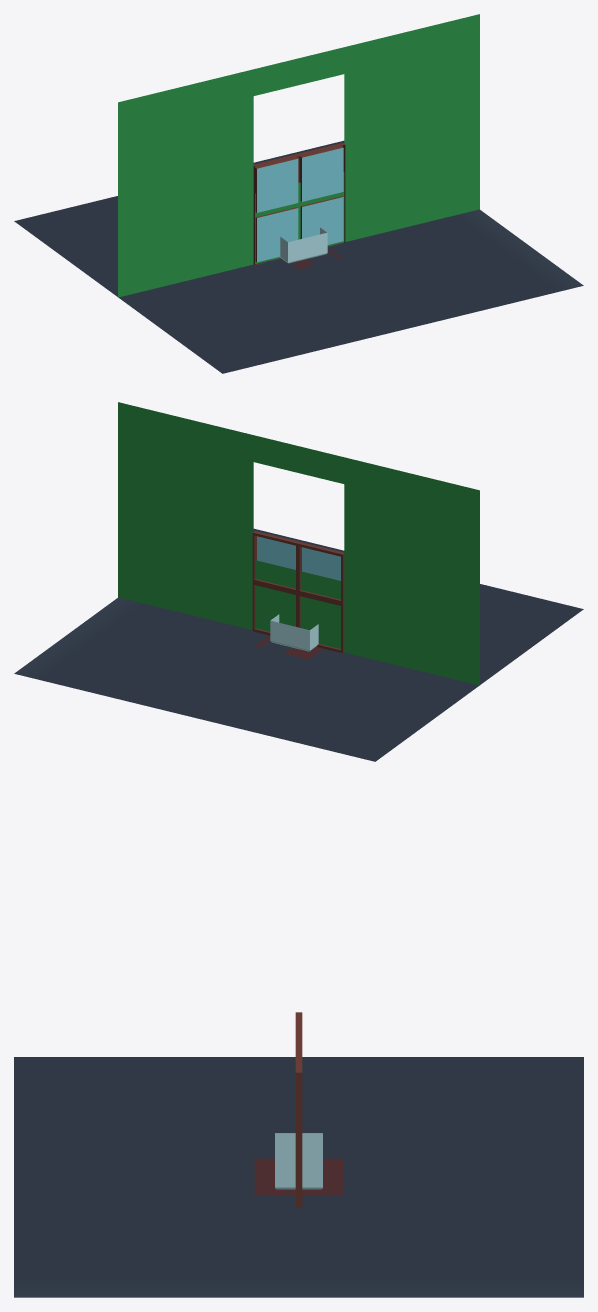
Rendered from RoomParts.fbx.
3 views of the same model, one above another, from view 1: azimuth 30°, elevation 25°; view 2: azimuth 150°, elevation 25°; view 3: azimuth 270°, elevation 25° (orthographic). The views are drawn at different scales.
Visible parts, largest first — view 1: Wall, Floor, Window, Terrarium; view 2: Wall, Floor, Window, Terrarium; view 3: Floor, Terrarium, Dresser, Window.
Boxes of the visible parts, x1,y1,x2,y2 form: Wall: [118, 14, 479, 297]; Floor: [14, 140, 583, 373]; Window: [253, 143, 345, 264]; Terrarium: [280, 227, 327, 263]; Wall: [118, 402, 479, 685]; Floor: [14, 528, 583, 761]; Window: [252, 531, 344, 653]; Terrarium: [270, 614, 318, 651]; Floor: [14, 1057, 583, 1297]; Terrarium: [275, 1133, 322, 1189]; Dresser: [254, 1158, 343, 1195]; Window: [295, 1012, 302, 1207].
Size of the model in its own units: 12058 by 8247 by 12046.
